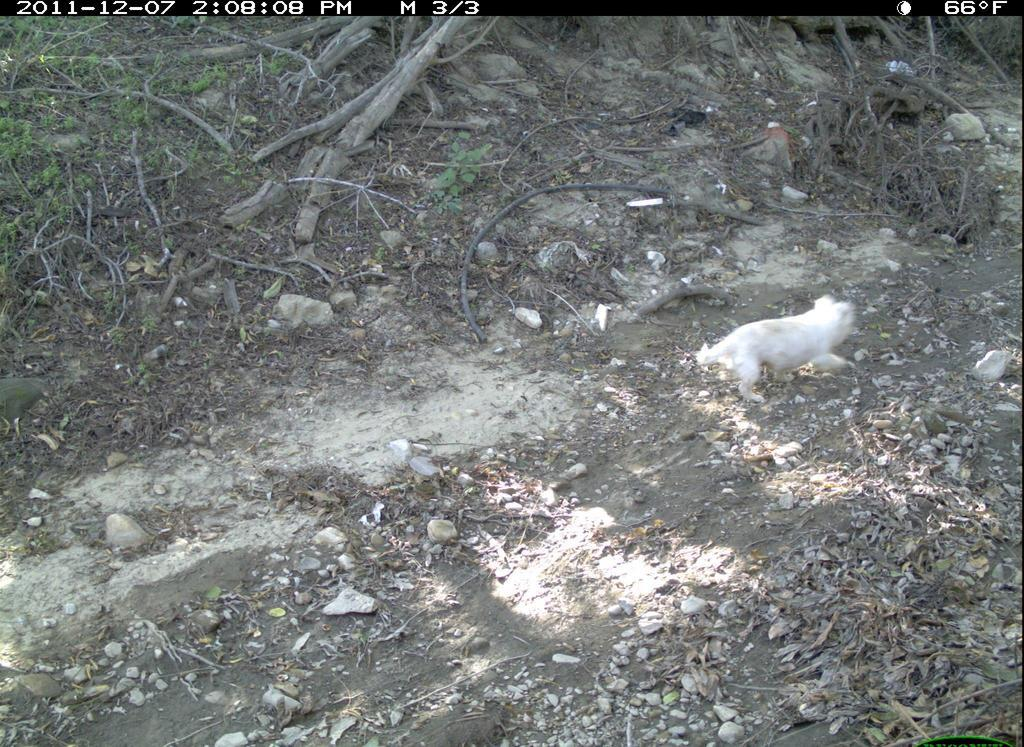dog: (696, 296, 862, 406)
